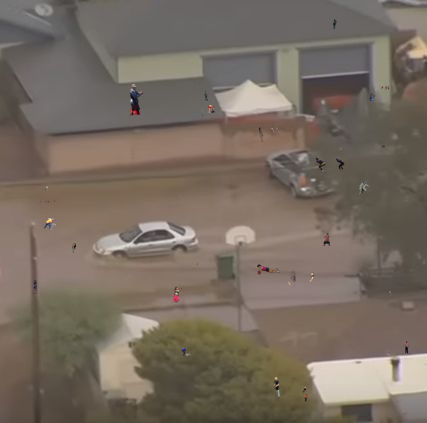Human: (259, 124, 289, 142), (285, 271, 315, 288), (315, 157, 345, 174), (129, 84, 144, 117), (323, 233, 358, 246), (257, 264, 280, 275), (172, 287, 182, 303), (43, 218, 56, 230), (358, 181, 369, 195), (273, 377, 280, 398), (40, 200, 57, 206), (181, 348, 191, 356), (404, 341, 409, 354), (70, 243, 76, 253), (208, 105, 215, 113), (33, 280, 37, 294), (369, 93, 375, 101), (304, 394, 309, 402), (333, 19, 337, 29), (204, 91, 208, 101), (381, 86, 389, 90), (302, 387, 306, 393), (45, 186, 49, 191), (382, 145, 385, 149), (196, 263, 198, 268), (389, 291, 391, 296), (202, 109, 203, 118)
